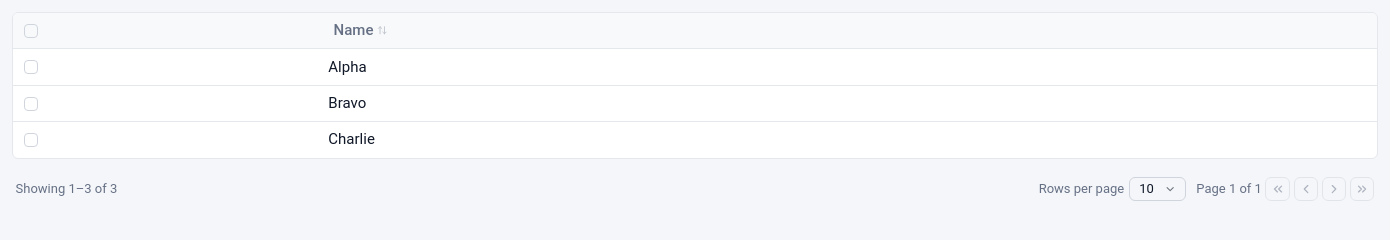
Test: DataTable with selection › does not open the row when its checkbox is clicked
The image size is (1390, 240).
Click the checkbox named "Select row a" at (31, 67), box top-left (24, 60), bottom-right (38, 74)
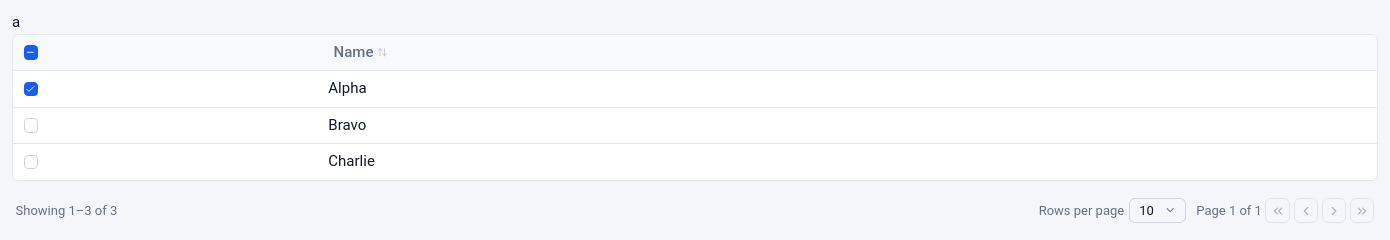
Check: the text with test id "selection" reads "a", box top-left (12, 13), bottom-right (20, 31)
